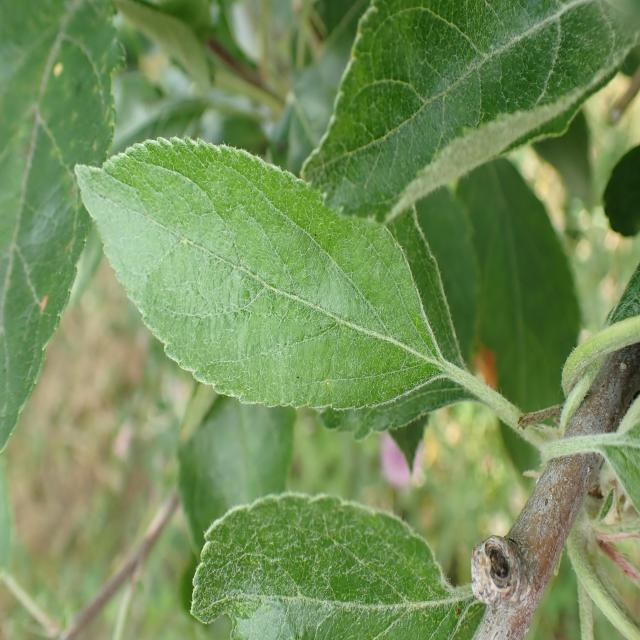healthy: (74, 136, 465, 426), (298, 1, 640, 220), (0, 0, 127, 458), (188, 491, 487, 640)
